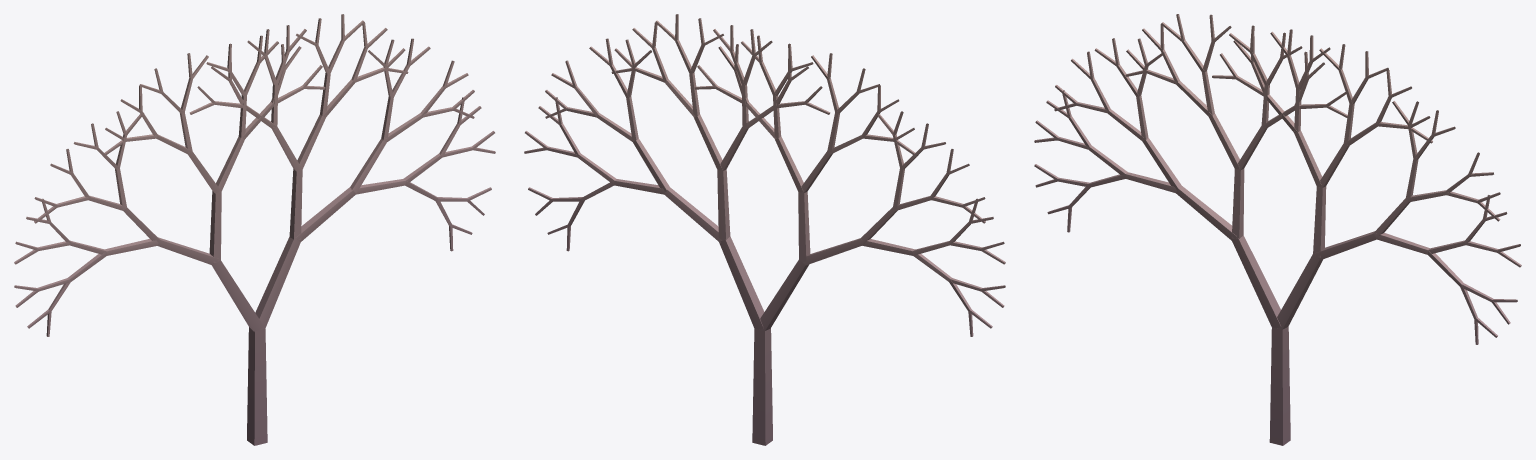
Rendered from coral_seafan.glb.
3 renders of one model, left to right at view 1: azimuth 30°, elevation 25°; view 2: azimuth 150°, elevation 25°; view 3: azimuth 330°, elevation 25°, orthographic.
Parts seen in each view (by area): view 1: coral_seafan; view 2: coral_seafan; view 3: coral_seafan.
Part boxes in pixels (x1,y1,x2,y2): coral_seafan: [14, 14, 495, 445]; coral_seafan: [524, 14, 1005, 445]; coral_seafan: [1034, 14, 1521, 445].
Size of the model in its own units: 1.55 by 1.26 by 0.0424.
